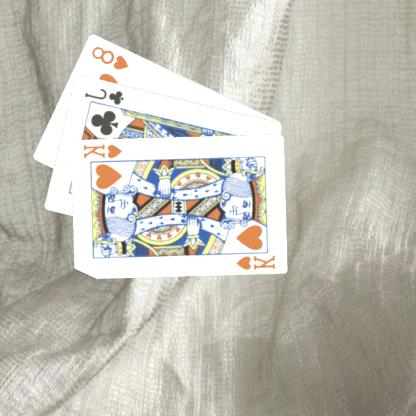8H: (90, 43, 132, 71)
JC: (83, 85, 127, 106)
KH: (82, 141, 125, 160), (234, 252, 278, 270)
